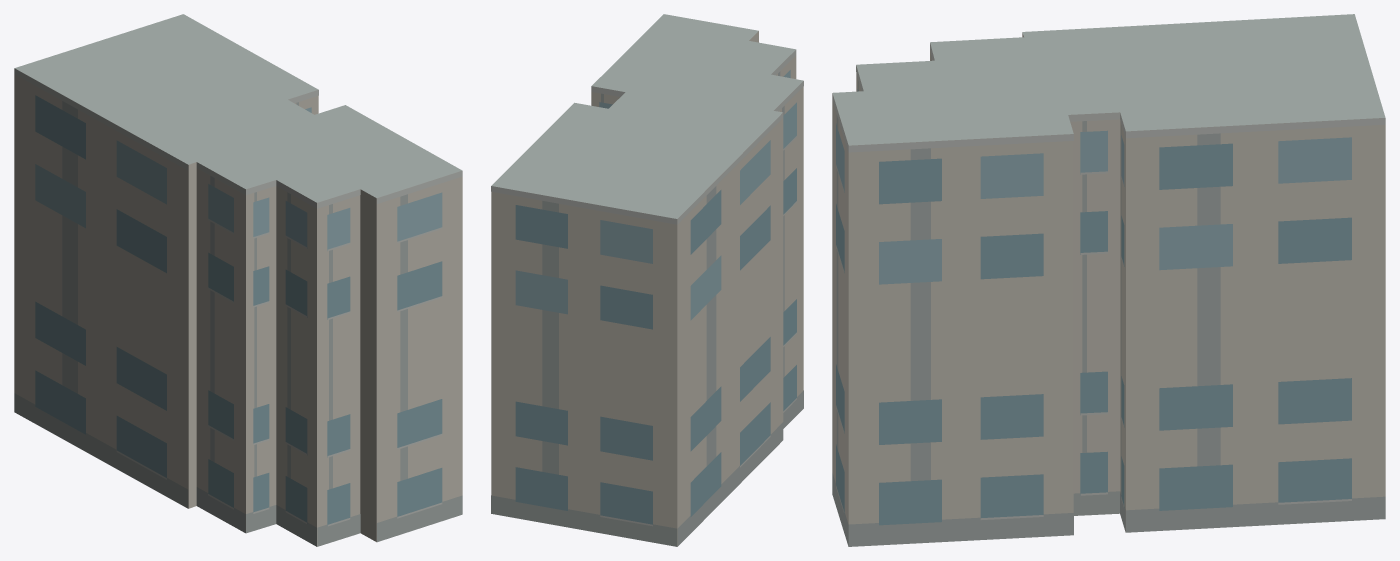
File: survey-upis-32614590.glb
3 views of the same model, side by side, from view 1: azimuth 30°, elevation 25°; view 2: azimuth 150°, elevation 25°; view 3: azimuth 270°, elevation 25° (orthographic). The views are drawn at different scales.
Parts seen in each view (by area): view 1: survey-upis-32614590.tmp; view 2: survey-upis-32614590.tmp; view 3: survey-upis-32614590.tmp.
Boxes of the visible parts, x1,y1,x2,y2 form: survey-upis-32614590.tmp: (14, 14, 462, 546); survey-upis-32614590.tmp: (491, 14, 803, 546); survey-upis-32614590.tmp: (832, 14, 1385, 546).
Bounding box in the file's own units: 9.86 × 14 × 17.5.
